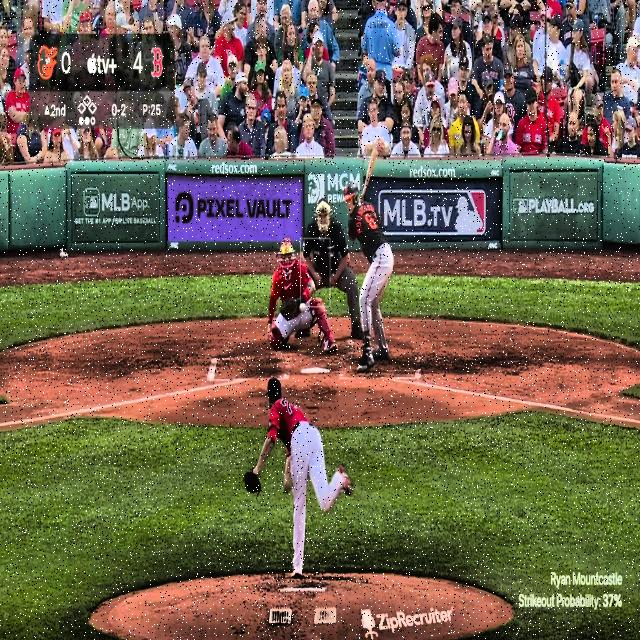baseball: (299, 302, 306, 312)
